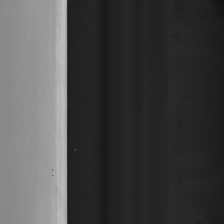inclusion: (50, 164, 55, 181)
